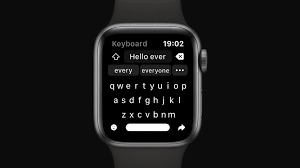keyboard: (102, 81, 191, 138)
